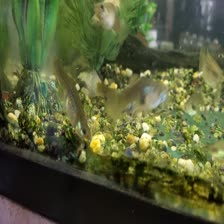Guppy: (43, 61, 94, 142), (101, 72, 173, 117), (88, 0, 127, 37), (197, 45, 223, 87), (182, 91, 205, 117)
